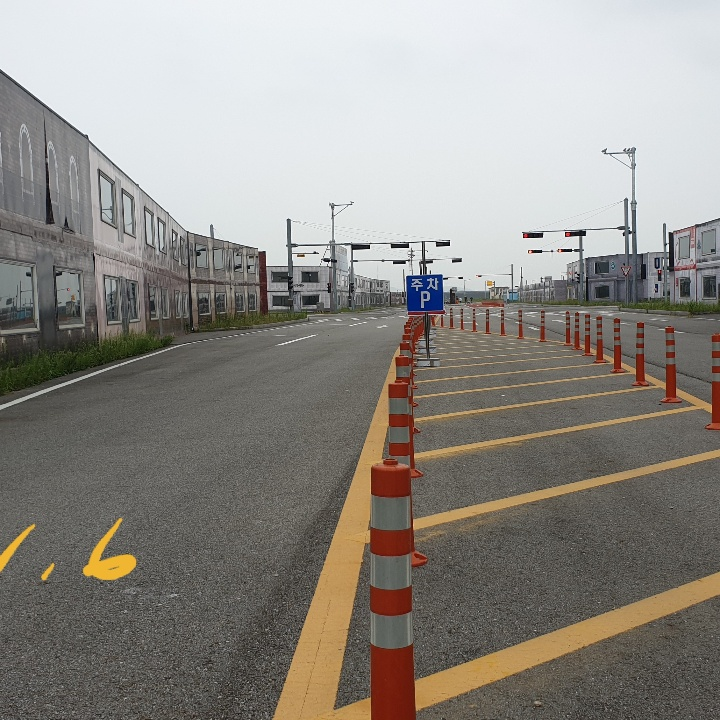parking: (415, 285, 436, 309)
